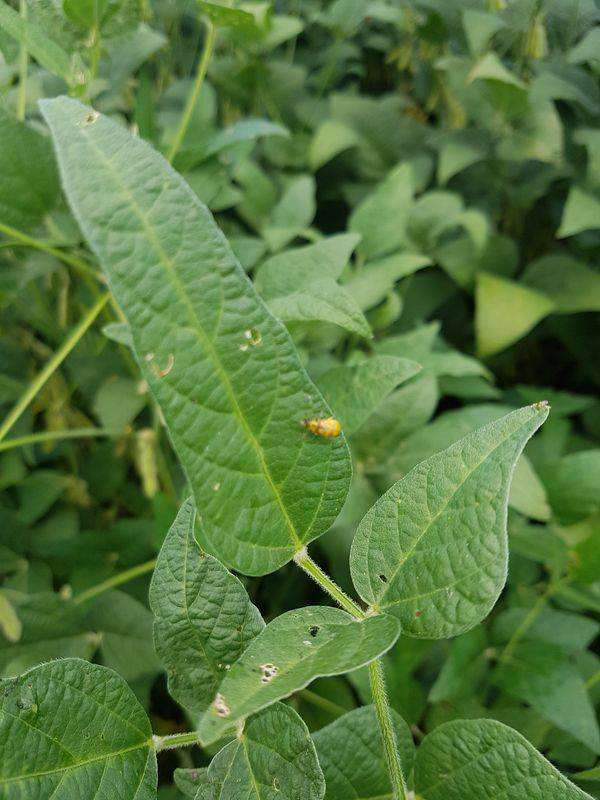Diabrotica_speciosa: (290, 410, 346, 449)
